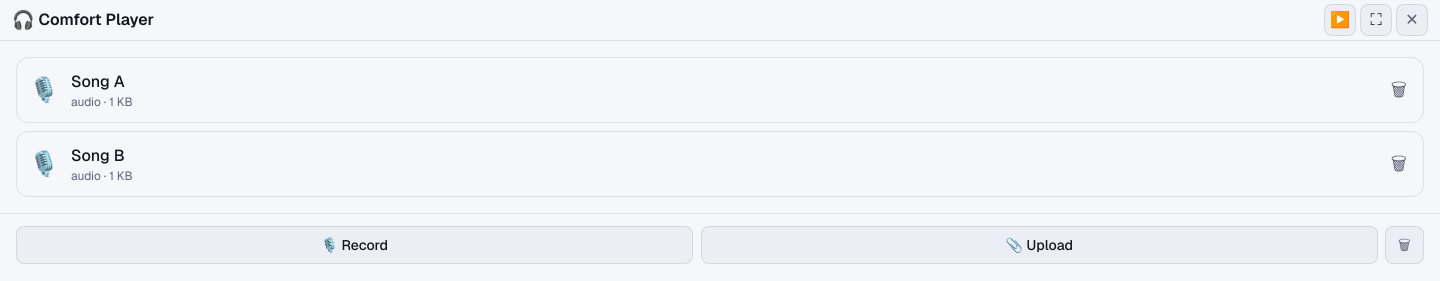
Test: ComfortPlayerPanel — clear confirmation flow › clicking Cancel dismisses confirmation without clearing
What coordinates should you click on to do the following:
click the button named "Delete all media"
I would click on:
 (1405, 245)
Its box is [1385,226,1424,264].
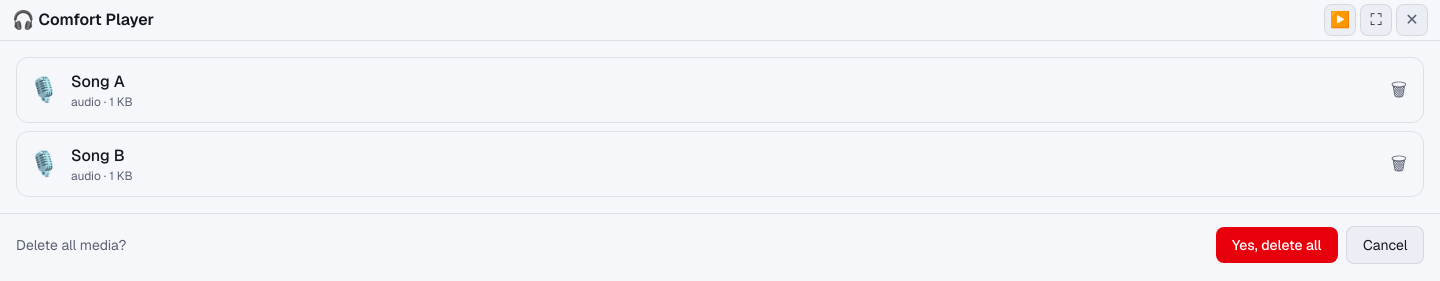
What coordinates should you click on to do the following:
click the button "Cancel"
I would click on:
 (1385, 245)
Its box is [1346,226,1424,264].
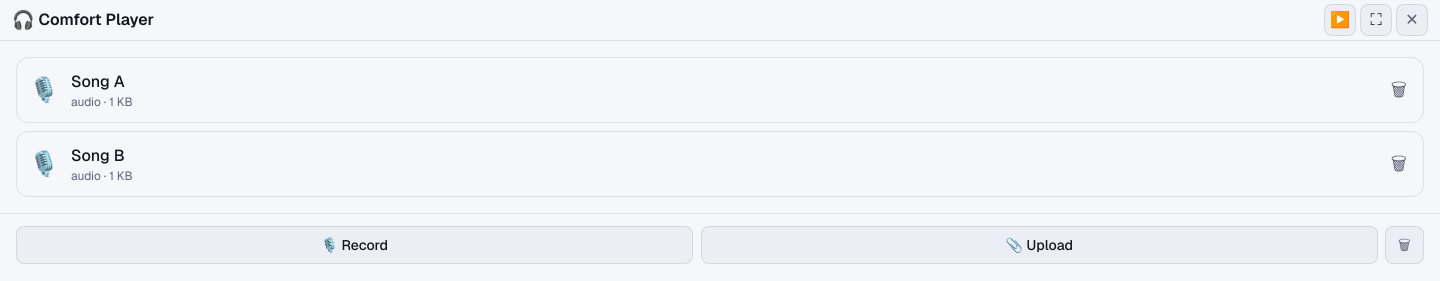
Check: the text "Delete all media?" is gone
